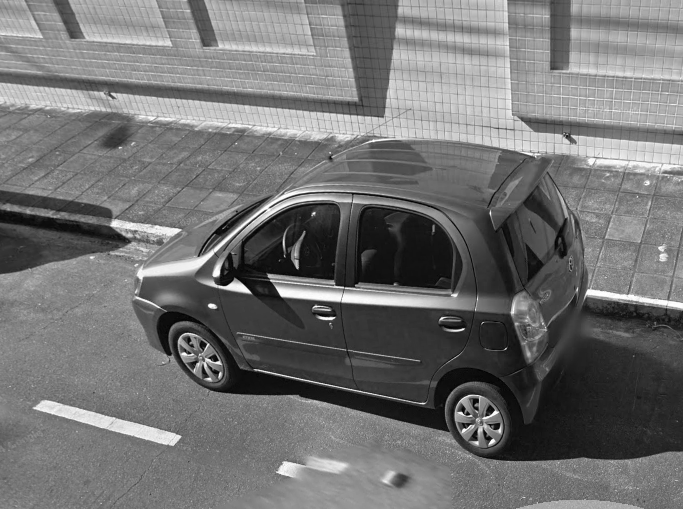car: (131, 107, 592, 459)
